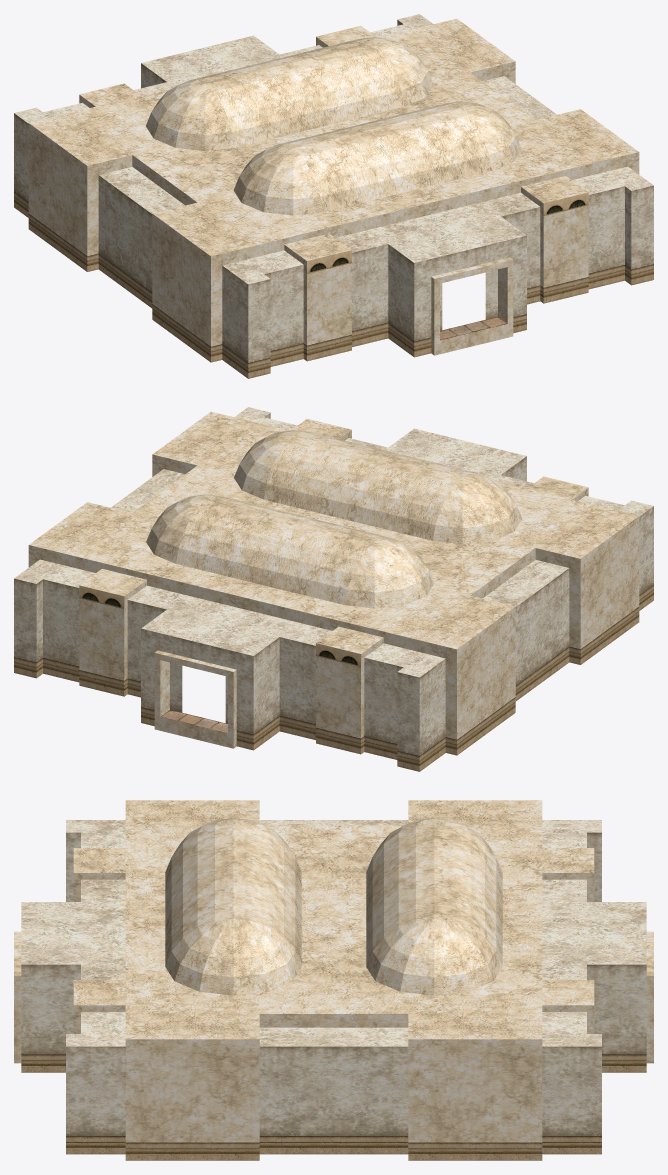
Rendered from mun_tato_hospital_s02_r0_mesh_l0.fbx.
3 views of the same model, one above another, from view 1: azimuth 30°, elevation 25°; view 2: azimuth 150°, elevation 25°; view 3: azimuth 270°, elevation 25° (orthographic). The views are drawn at different scales.
Parts seen in each view (by area): view 1: mesh_node; view 2: mesh_node; view 3: mesh_node.
Boxes of the visible parts, x1,y1,x2,y2 form: mesh_node: (14, 14, 653, 378); mesh_node: (14, 407, 653, 771); mesh_node: (14, 800, 653, 1160).
Bounding box in the file's own units: 38 × 12.56 × 43.
